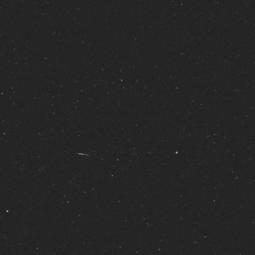debris: (72, 139, 95, 162)
